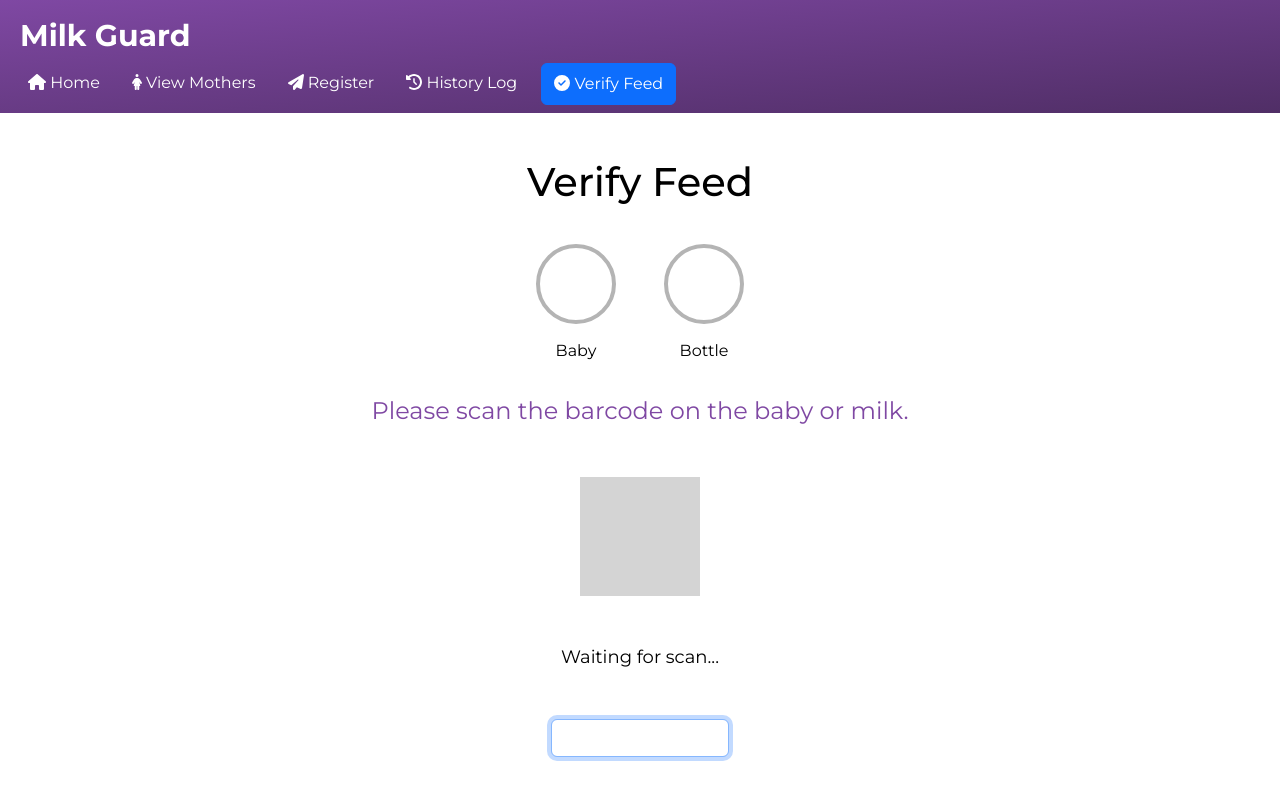
Test: verify feeds flow › should give an error if the barcode entered is invalid
Type "9999" into the field at (641, 738), box [551,719,730,757]
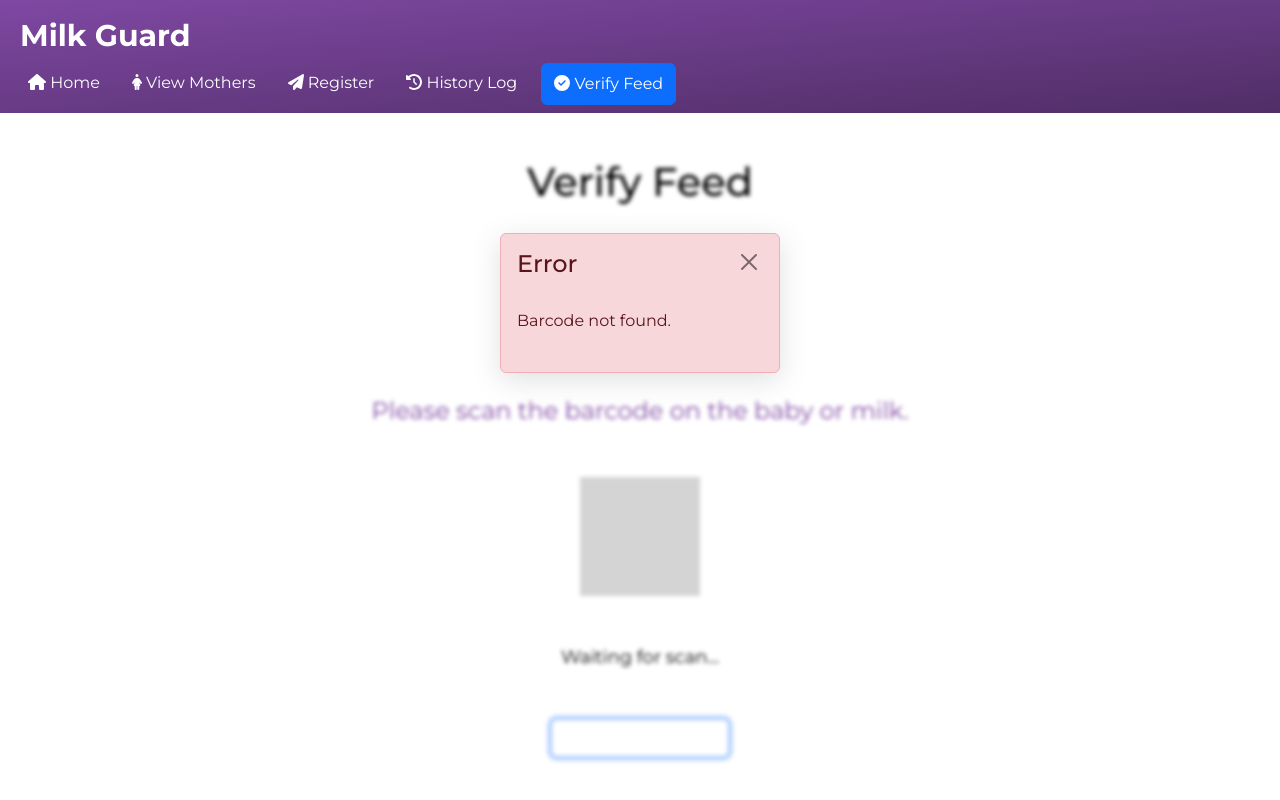
Now the element showing "Error Barcode not found." is shown, box [500,233,780,373]
